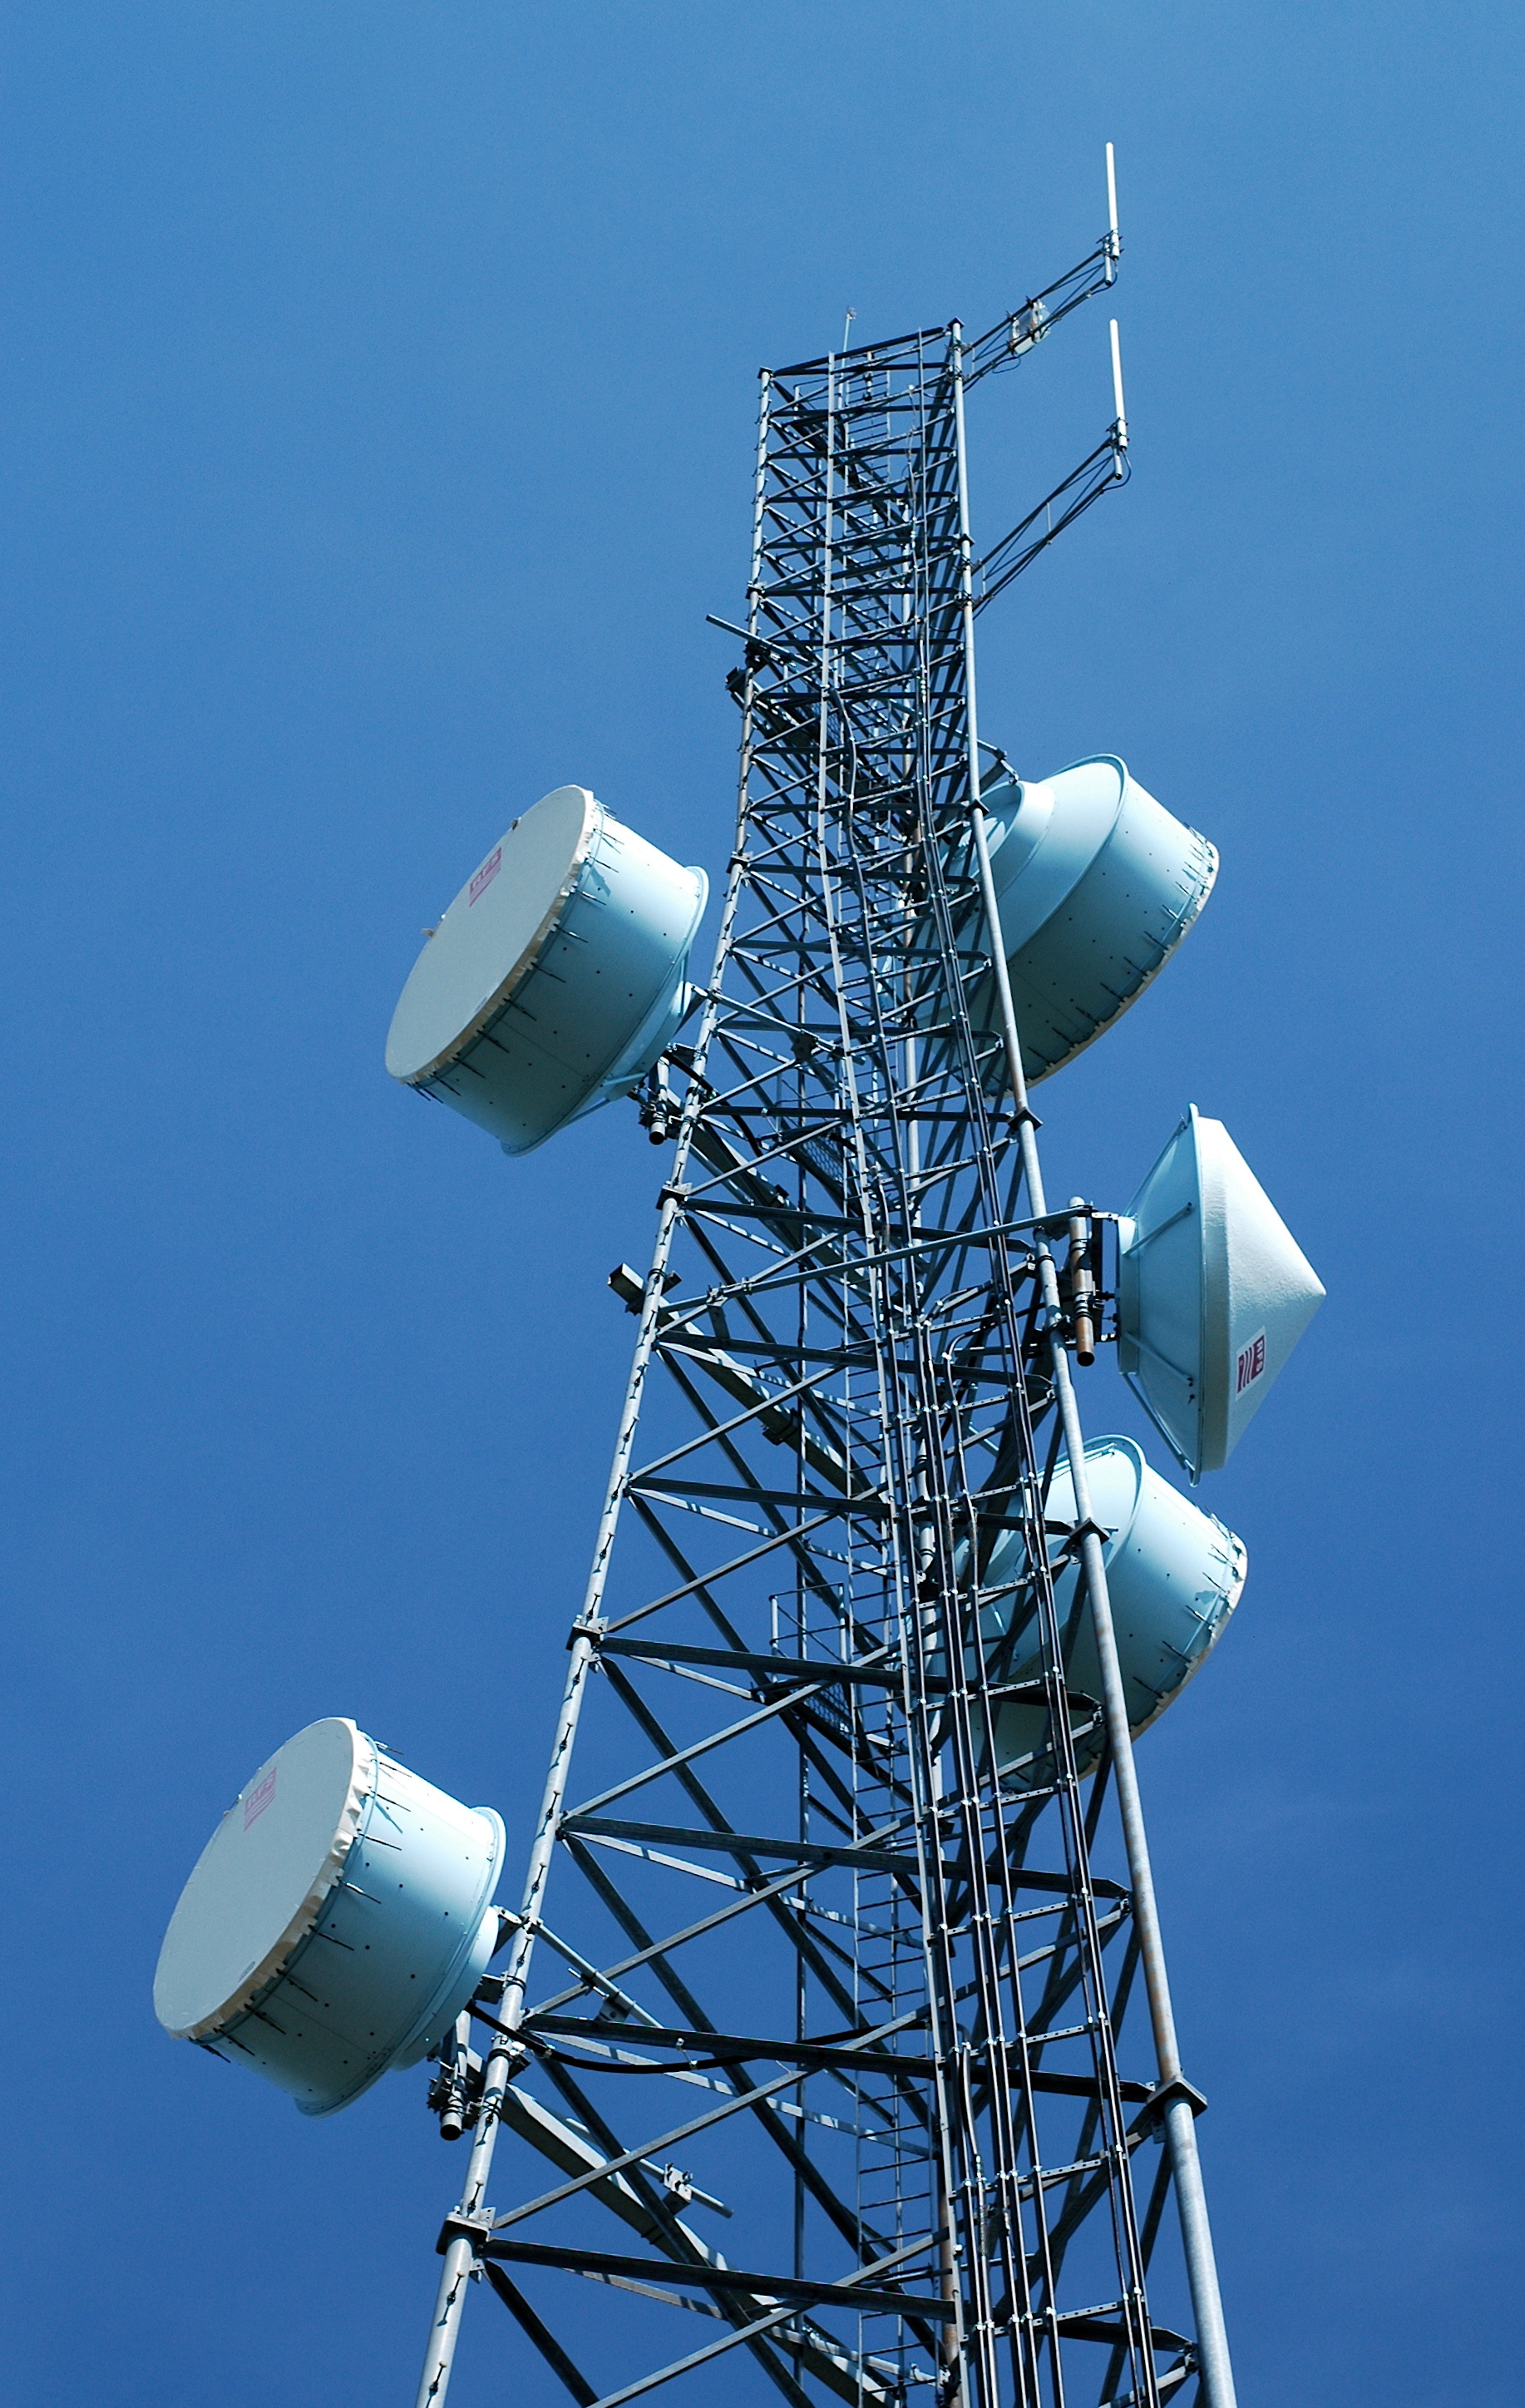ba: (125, 1697, 526, 2143), (353, 765, 741, 1179), (869, 716, 1246, 1062), (920, 1451, 1267, 1755)
